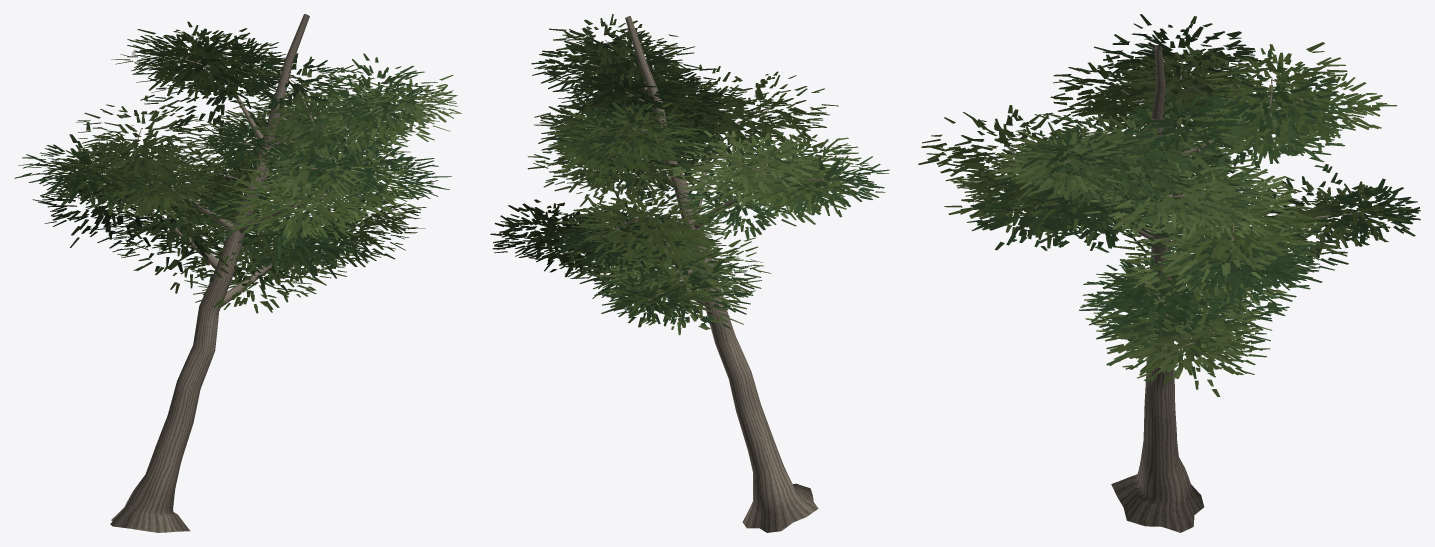
File: avc2.glb
3 renders of one model, left to right at view 1: azimuth 30°, elevation 25°; view 2: azimuth 150°, elevation 25°; view 3: azimuth 270°, elevation 25°, orthographic. The views are drawn at different scales.
Visible parts, largest first — view 1: avc2_lod0_1, avc2_lod0_0; view 2: avc2_lod0_1, avc2_lod0_0; view 3: avc2_lod0_1, avc2_lod0_0.
Part boxes in pixels (box(x1,y1,x2,y2)): avc2_lod0_1: box(14, 21, 461, 313); avc2_lod0_0: box(84, 14, 410, 532); avc2_lod0_1: box(490, 14, 889, 335); avc2_lod0_0: box(559, 16, 823, 532); avc2_lod0_1: box(918, 14, 1420, 396); avc2_lod0_0: box(1006, 45, 1365, 532).
Size of what is drawn, in the model's own units: 21.61 by 25.15 by 20.52.
2 materials, 1 textured.
